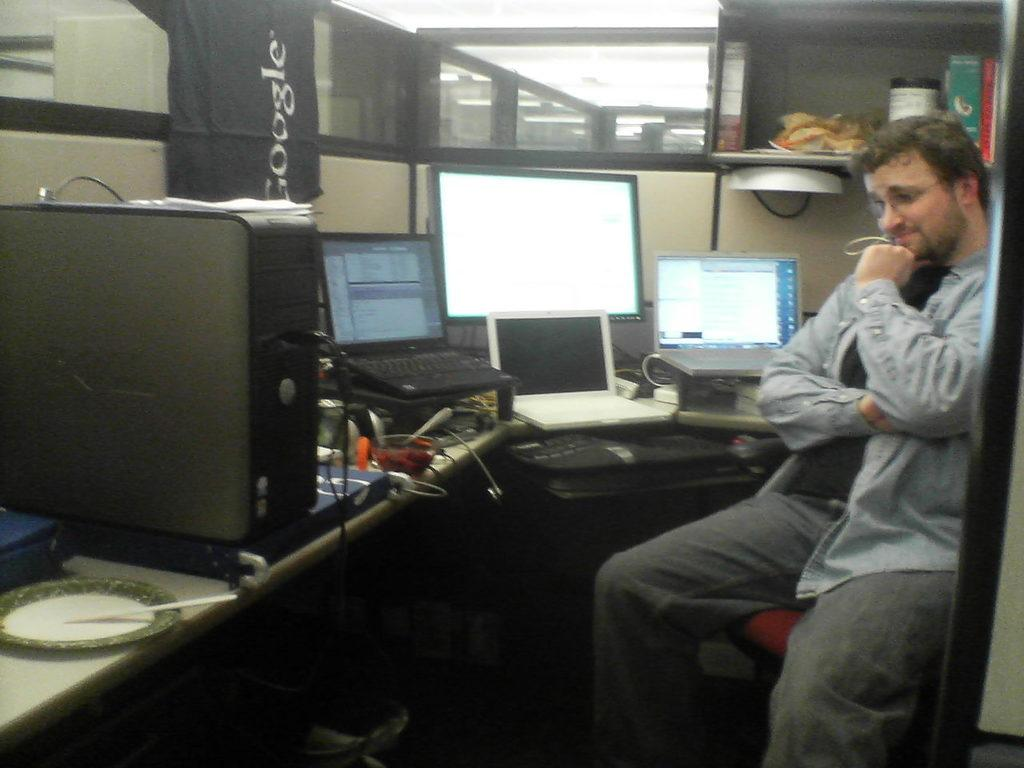Computer-monitor: (428, 158, 649, 326), (668, 241, 817, 373)
